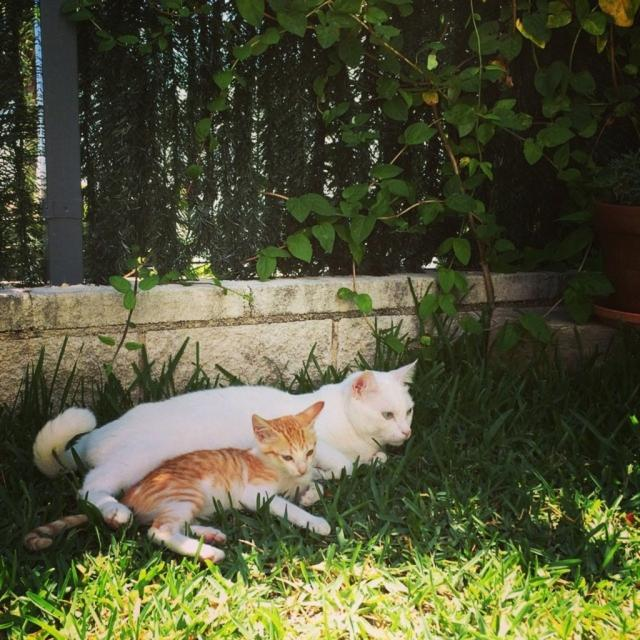Cat: (23, 398, 343, 568), (28, 359, 416, 483)
